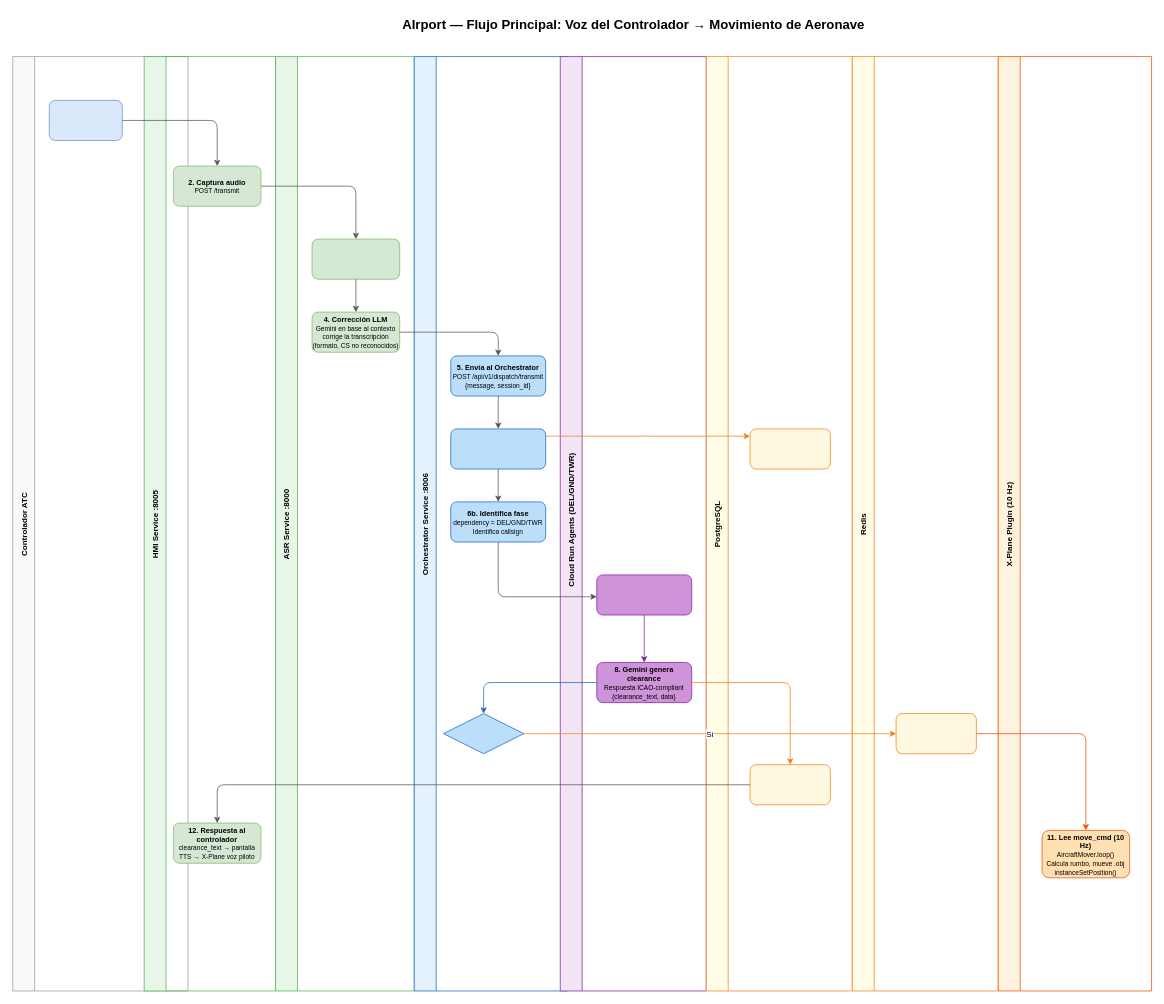
Image size: 1164x1004. Some labels were removed from this diagram. The centre of each missing label's shape, as x and y in pixels:
1. Habla por micrófono Pulsa PTT (Push to Talk): (85,120)
10. Escribe move_cmd aircraft:{reg}:move_cmd {waypoints, speed_kts: 7}: (935,733)
3. Transcripción Whisper POST /api/v1/asr/transcribe Modelo fine-tuned ATC: (355,258)
6a. get_known_aircraft() Consulta clearances y dependency de BD: (498,448)
7. forward_to_agent() HTTP POST Cloud Run {flight_plan, atis, msg}: (644,594)
9. Guarda clearance INSERT/UPDATE aircraft_clearances: (789,784)
SELECT aircraft_clearances WHERE session_id=...: (789,448)
¿Fase GND?: (483,733)
